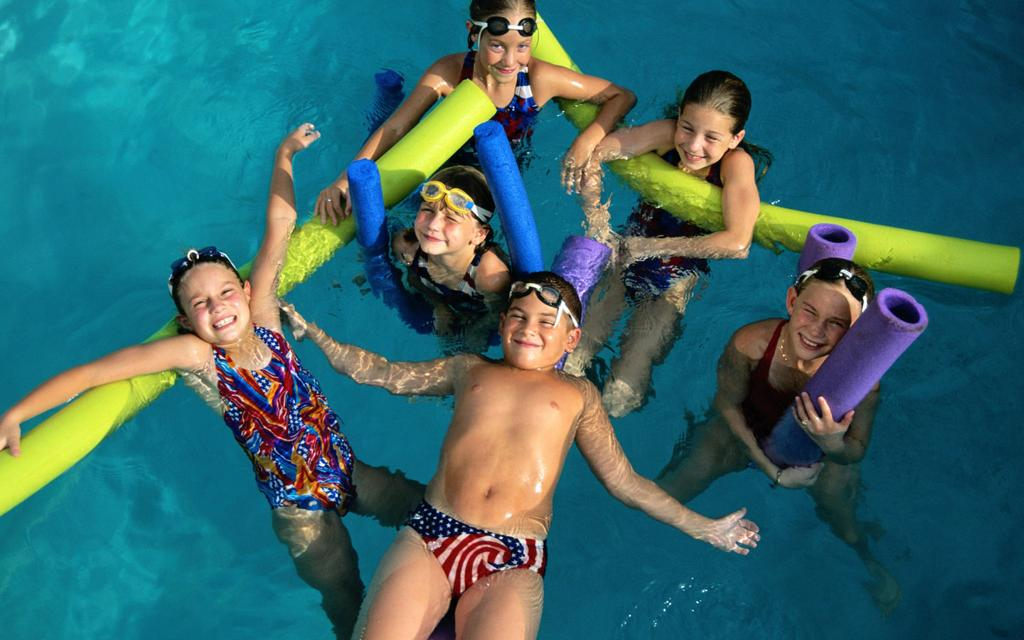face: (476, 8, 540, 82), (182, 270, 250, 338), (788, 286, 850, 360), (408, 182, 468, 254), (496, 294, 564, 356), (678, 98, 732, 174)
